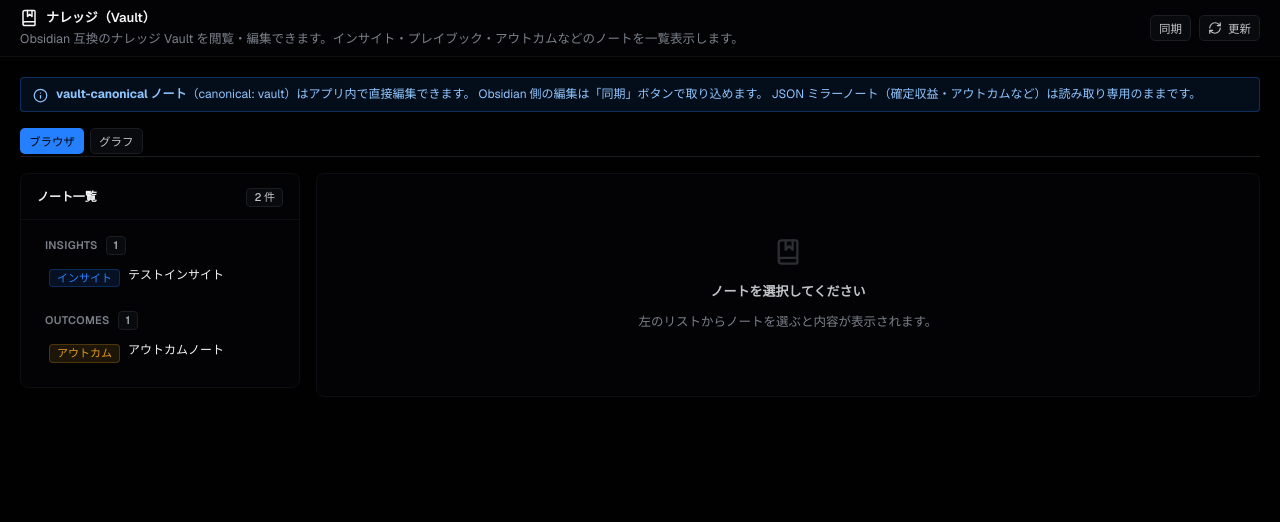
Test: KnowledgePage › unresolved wikilink renders as muted non-clickable text
This screenshot has width=1280, height=522.
Expected: the text "テストインサイト" is shown, [128,267,224,283]
Click the button "インサイト テストインサイト" at x=160, y=277, box [37,259,283,295]
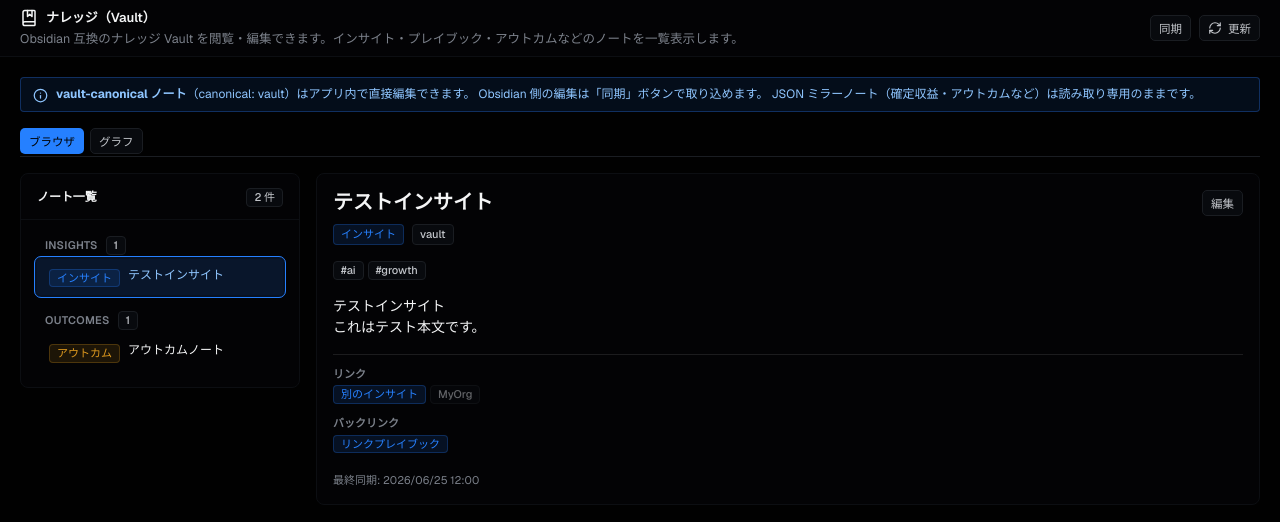
Expected: the text "これはテスト本文です。" is shown, [333,318,486,336]
Expected: the text "MyOrg" is shown, [430,385,480,404]
